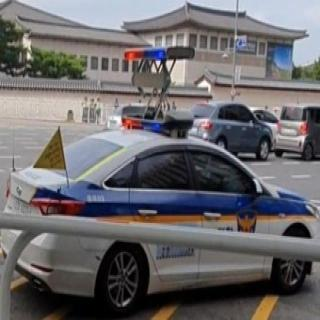Police_car: (2, 109, 320, 306)
